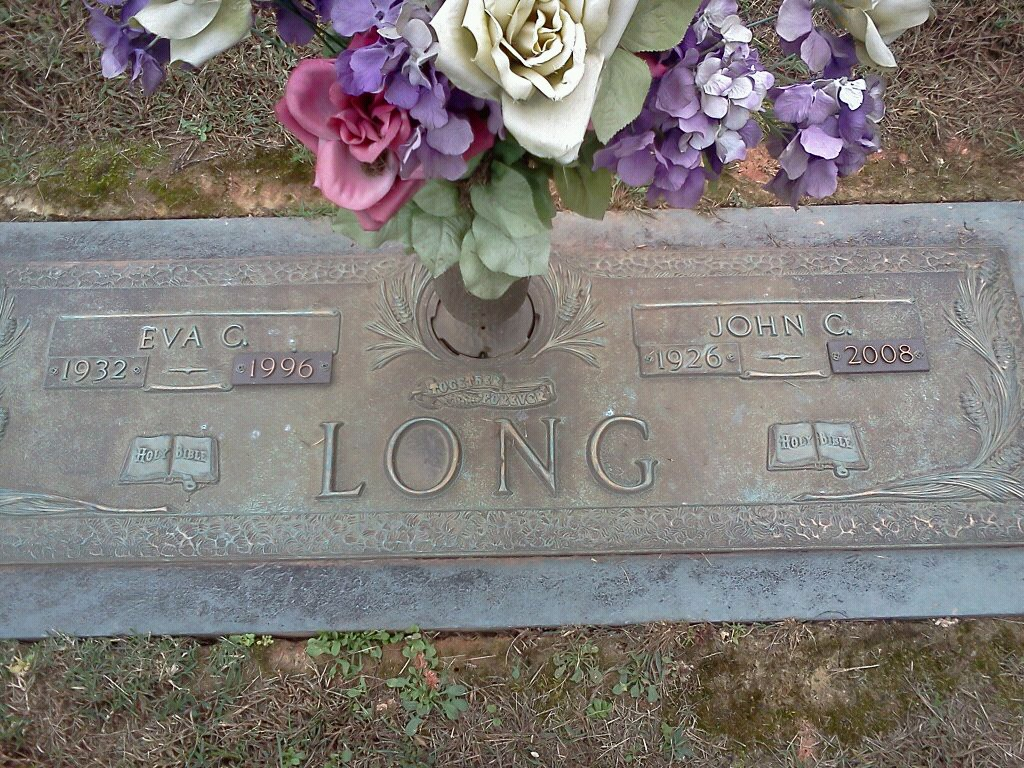flat: (10, 179, 1024, 651)
